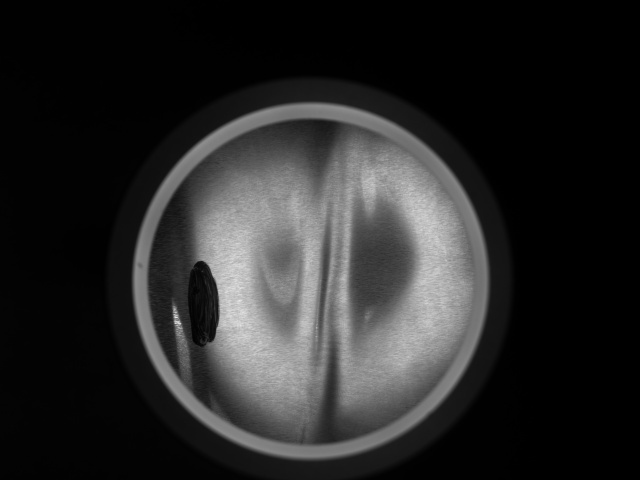zang_wu: (182, 258, 225, 352)
zhe_zhou: (188, 150, 430, 416)
